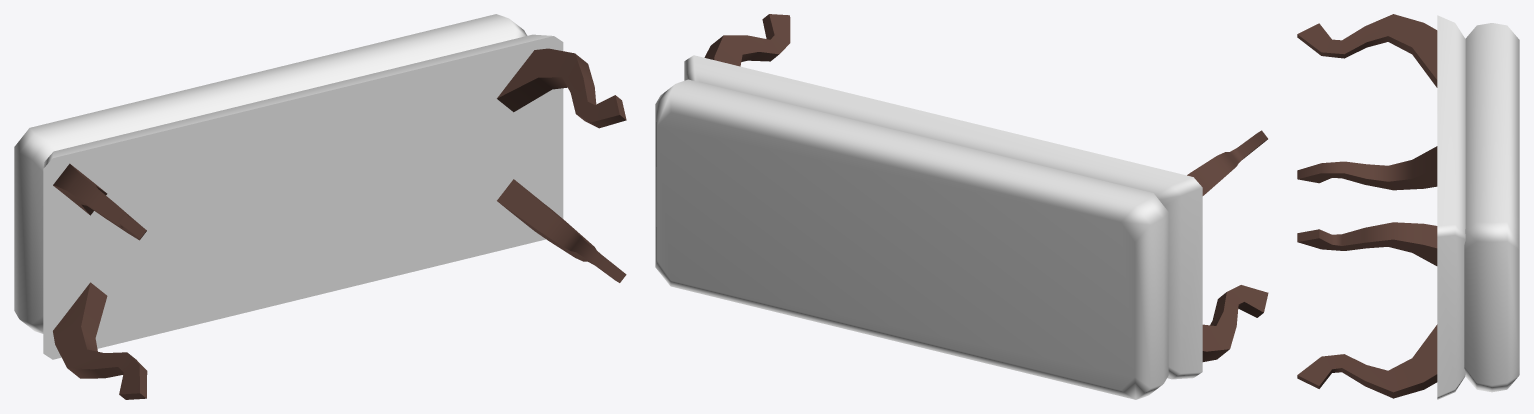
Rendered from bench.glb.
3 views of the same model, side by side, from view 1: azimuth 30°, elevation 25°; view 2: azimuth 150°, elevation 25°; view 3: azimuth 270°, elevation 25° (orthographic). The views are drawn at different scales.
Visible parts, largest first — view 1: ottoman_003; view 2: ottoman_003; view 3: ottoman_003.
Boxes of the visible parts, left/top/right/bottom form: ottoman_003: left=14, top=14, right=626, bottom=399; ottoman_003: left=655, top=14, right=1268, bottom=399; ottoman_003: left=1297, top=14, right=1519, bottom=399.
Size of the model in its own units: 0.9661 by 0.3619 by 0.4137.
Materials: 1 (1 with a texture image).
